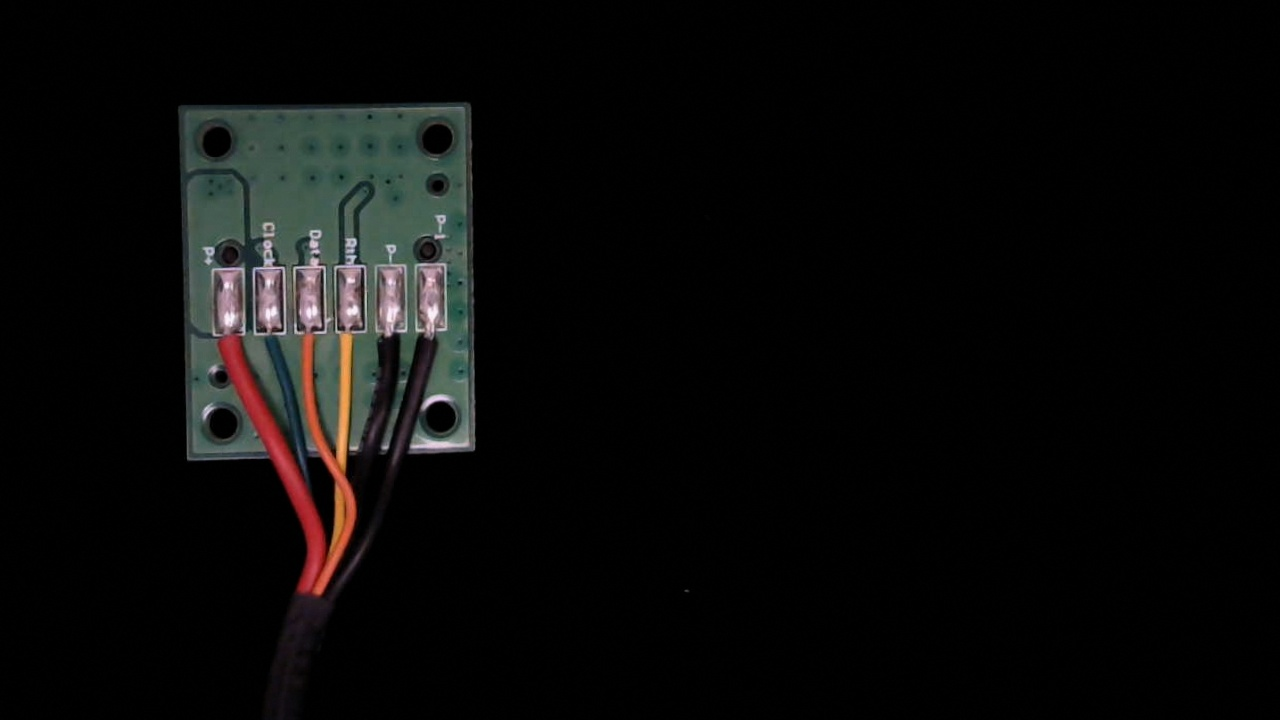Black: (376, 317, 406, 378)
Black1: (413, 317, 447, 376)
Green: (256, 318, 288, 374)
Orange: (296, 317, 324, 378)
Red: (210, 323, 246, 383)
Yellow: (335, 316, 364, 379)
